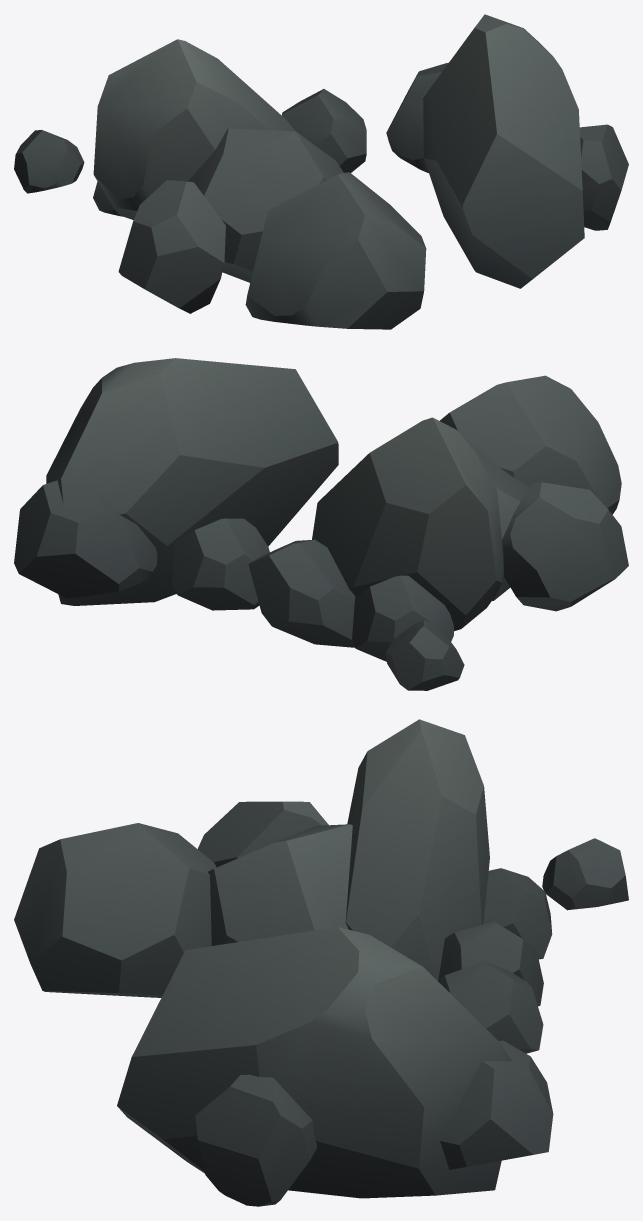
File: coal.glb
The picture shows the model from 3 angles, top to bottom: view 1: azimuth 30°, elevation 25°; view 2: azimuth 150°, elevation 25°; view 3: azimuth 270°, elevation 25°; orthographic projection. The views are drawn at different scales.
Parts seen in each view (by area): view 1: rock; view 2: rock; view 3: rock.
Boxes of the visible parts, x1=… form: rock: x1=14, y1=14, x2=628, y2=329; rock: x1=14, y1=358, x2=628, y2=690; rock: x1=14, y1=719, x2=628, y2=1206.
Size of the model in its own units: 1.06 by 0.4938 by 0.9268.
Materials: 1 (1 with a texture image).
